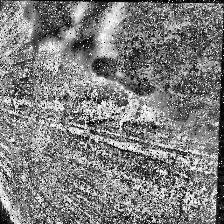pothole: (78, 90, 154, 136)
